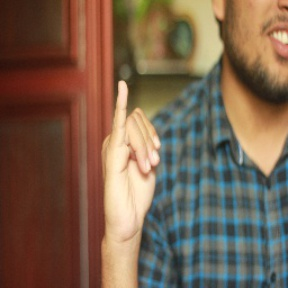I: (94, 77, 164, 242)
